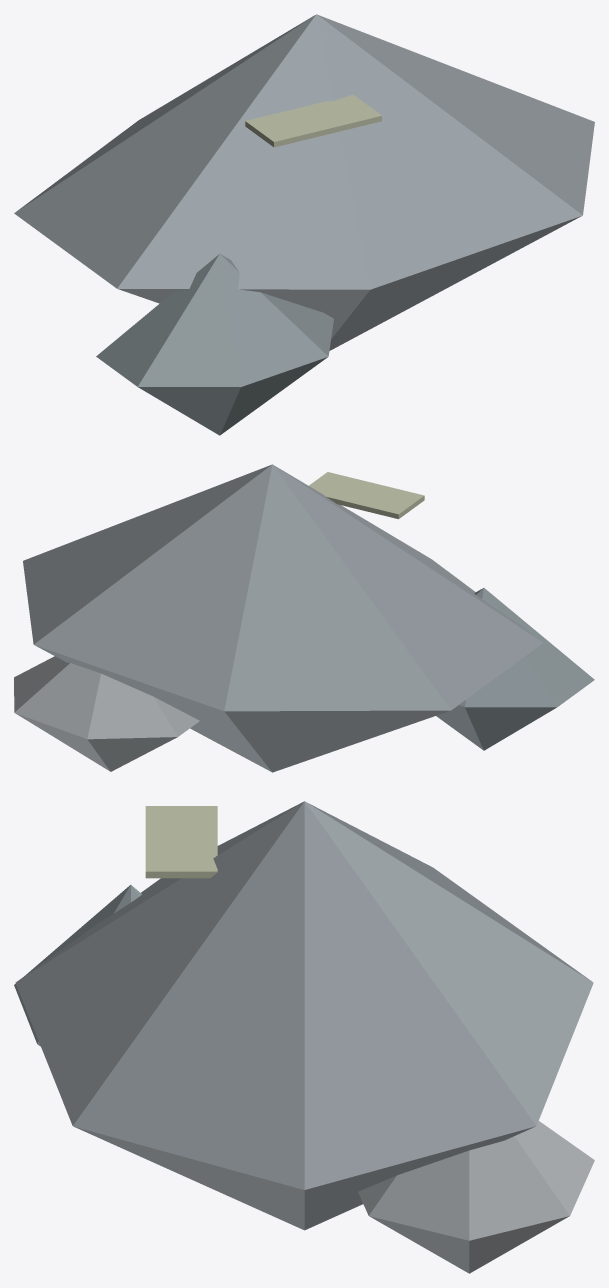
File: boulder.glb
The picture shows the model from 3 angles, top to bottom: view 1: azimuth 30°, elevation 25°; view 2: azimuth 150°, elevation 25°; view 3: azimuth 270°, elevation 25°; orthographic projection. The views are drawn at different scales.
Parts seen in each view (by area): view 1: 岩塊, 苔と地衣; view 2: 岩塊, 苔と地衣; view 3: 岩塊, 苔と地衣.
Part boxes in pixels (box(x1,y1,x2,y2)): 岩塊: box(14, 14, 594, 435); 苔と地衣: box(245, 94, 381, 147); 岩塊: box(14, 464, 594, 772); 苔と地衣: box(309, 472, 424, 519); 岩塊: box(14, 801, 594, 1273); 苔と地衣: box(145, 806, 217, 878).
Size of the model in its own units: 2.64 by 1.58 by 1.94.
